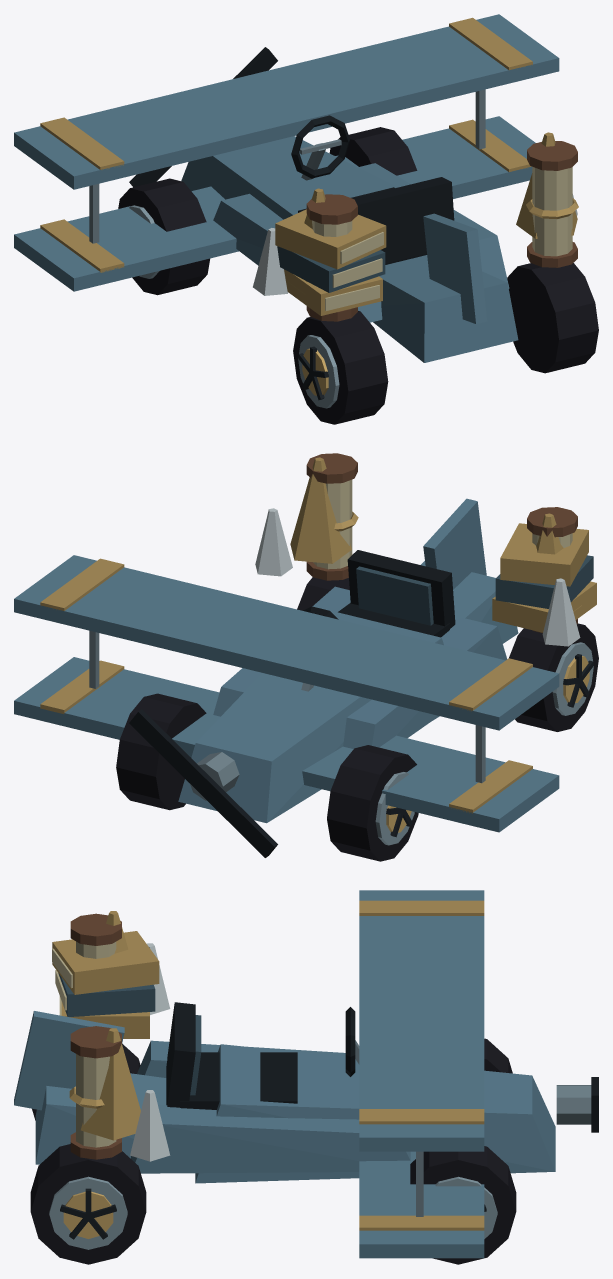
The model's file is kart.glb.
3 views of the same model, one above another, from view 1: azimuth 30°, elevation 25°; view 2: azimuth 150°, elevation 25°; view 3: azimuth 270°, elevation 25° (orthographic). The views are drawn at different scales.
Visible parts, largest first — view 1: identity-biplane-biplane-dual-wings-and-propeller, identity-biplane-motif-books, wheel-rear-left, wheel-rear-right, identity-biplane-motif-scrolls, identity-biplane-driver-cockpit, wheel-front-left, identity-biplane-motif-crystals, wheel-front-right; view 2: identity-biplane-biplane-dual-wings-and-propeller, wheel-front-left, identity-biplane-driver-cockpit, identity-biplane-motif-crystals, identity-biplane-motif-books, wheel-front-right, wheel-rear-left, identity-biplane-motif-scrolls, wheel-rear-right; view 3: identity-biplane-biplane-dual-wings-and-propeller, wheel-rear-right, identity-biplane-motif-books, identity-biplane-driver-cockpit, identity-biplane-motif-scrolls, identity-biplane-motif-crystals, wheel-front-right, wheel-front-left.
Boxes of the visible parts, x1=… form: identity-biplane-biplane-dual-wings-and-propeller: x1=14, y1=14, x2=559, y2=362; identity-biplane-motif-books: x1=275, y1=209, x2=386, y2=315; wheel-rear-left: x1=293, y1=311, x2=388, y2=424; wheel-rear-right: x1=507, y1=263, x2=598, y2=373; identity-biplane-motif-scrolls: x1=306, y1=141, x2=578, y2=321; identity-biplane-driver-cockpit: x1=291, y1=115, x2=454, y2=264; wheel-front-left: x1=118, y1=178, x2=210, y2=295; identity-biplane-motif-crystals: x1=253, y1=132, x2=577, y2=295; wheel-front-right: x1=329, y1=127, x2=417, y2=175; identity-biplane-biplane-dual-wings-and-propeller: x1=14, y1=498, x2=559, y2=857; wheel-front-left: x1=327, y1=745, x2=418, y2=861; identity-biplane-driver-cockpit: x1=301, y1=550, x2=455, y2=691; identity-biplane-motif-crystals: x1=255, y1=457, x2=581, y2=646; identity-biplane-motif-books: x1=492, y1=523, x2=596, y2=632; wheel-front-right: x1=116, y1=693, x2=206, y2=810; wheel-rear-left: x1=509, y1=623, x2=598, y2=731; identity-biplane-motif-scrolls: x1=306, y1=453, x2=577, y2=633; wheel-rear-right: x1=297, y1=577, x2=349, y2=610; identity-biplane-biplane-dual-wings-and-propeller: x1=14, y1=890, x2=598, y2=1258; wheel-rear-right: x1=30, y1=1144, x2=146, y2=1264; identity-biplane-motif-books: x1=52, y1=931, x2=159, y2=1038; identity-biplane-driver-cockpit: x1=166, y1=1002, x2=359, y2=1109; identity-biplane-motif-scrolls: x1=69, y1=913, x2=121, y2=1159; identity-biplane-motif-crystals: x1=81, y1=911, x2=170, y2=1161; wheel-front-right: x1=410, y1=1146, x2=516, y2=1264; wheel-front-left: x1=484, y1=1038, x2=512, y2=1073.
Size of the model in its own units: 3.04 by 1.32 by 3.04.
